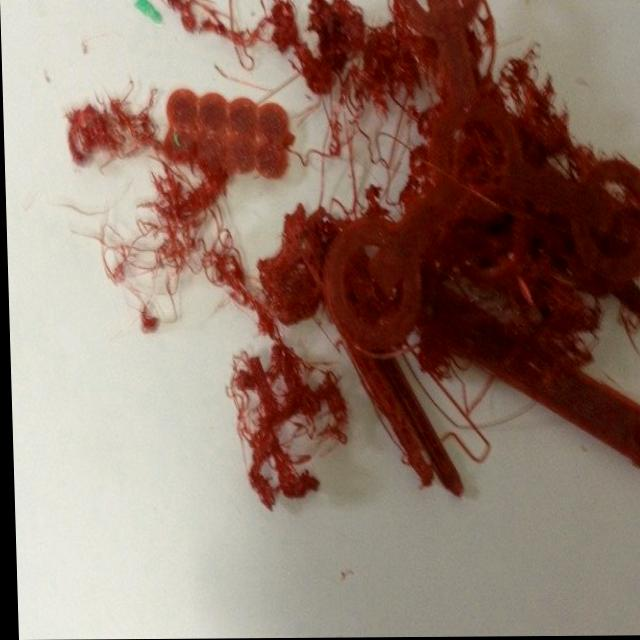spaghetti: (36, 0, 640, 507)
